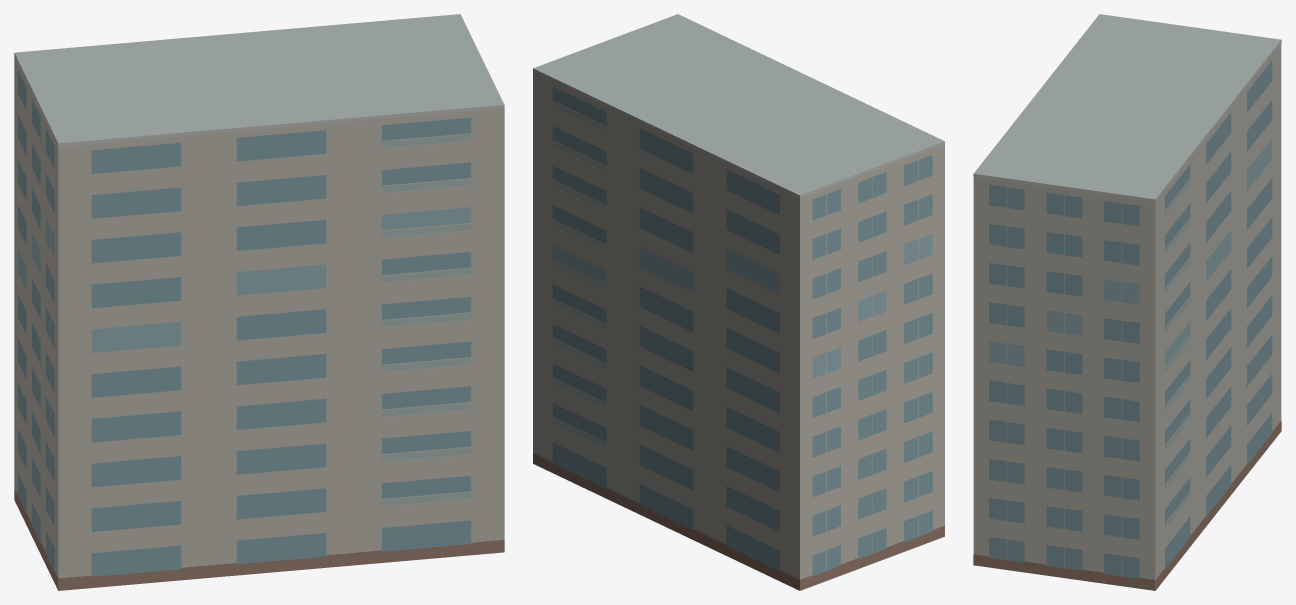
The model's file is residential-8367362e-d094-49d2-a6dc-b8a8d25b7f1c.glb.
3 renders of one model, left to right at view 1: azimuth 30°, elevation 25°; view 2: azimuth 150°, elevation 25°; view 3: azimuth 270°, elevation 25°, orthographic. The views are drawn at different scales.
Parts seen in each view (by area): view 1: residential-8367362e-d094-49d2-a6dc-b8a8d25b7f1c.tmp; view 2: residential-8367362e-d094-49d2-a6dc-b8a8d25b7f1c.tmp; view 3: residential-8367362e-d094-49d2-a6dc-b8a8d25b7f1c.tmp.
Boxes of the visible parts, x1=… form: residential-8367362e-d094-49d2-a6dc-b8a8d25b7f1c.tmp: x1=14, y1=14, x2=504, y2=590; residential-8367362e-d094-49d2-a6dc-b8a8d25b7f1c.tmp: x1=533, y1=14, x2=944, y2=590; residential-8367362e-d094-49d2-a6dc-b8a8d25b7f1c.tmp: x1=973, y1=14, x2=1281, y2=590.
Bounding box in the file's own units: 30.97 × 30.5 × 21.75.
